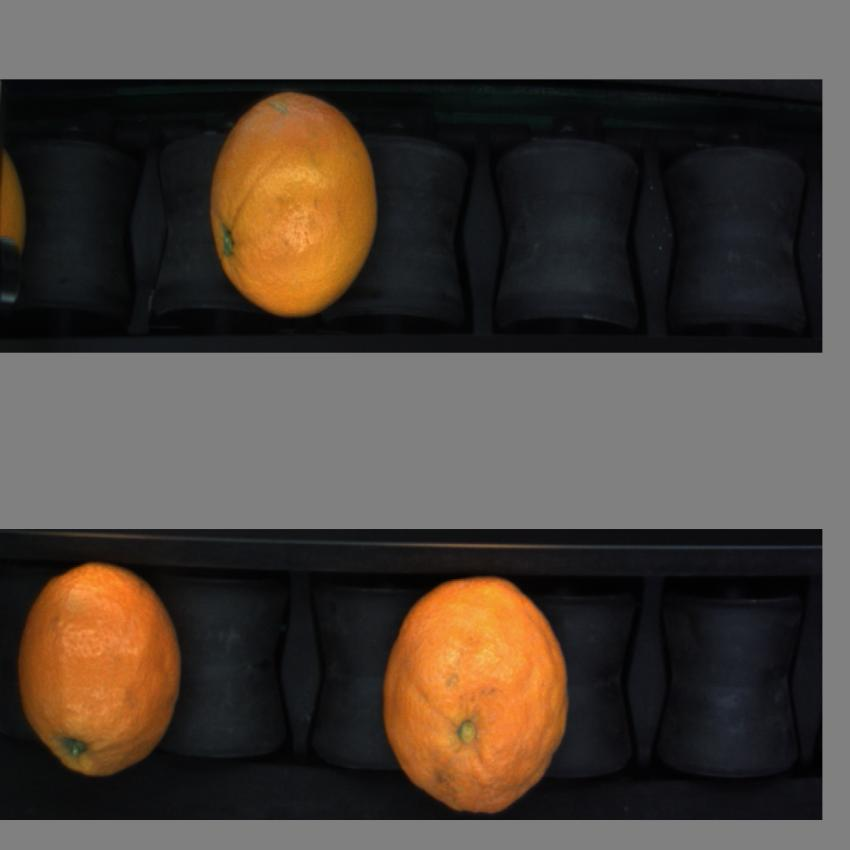Buen estado: (382, 574, 572, 816), (208, 88, 394, 318)
Mal estado: (18, 560, 184, 780)
